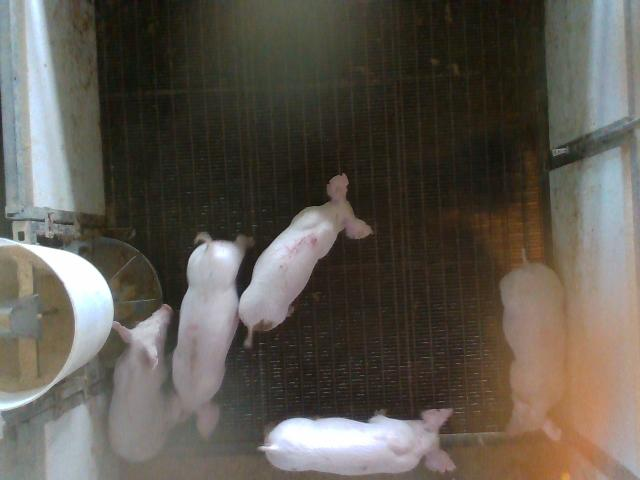pig-3: (169, 232, 254, 438)
pig-4: (500, 255, 565, 441)
pig-5: (239, 174, 372, 346)
